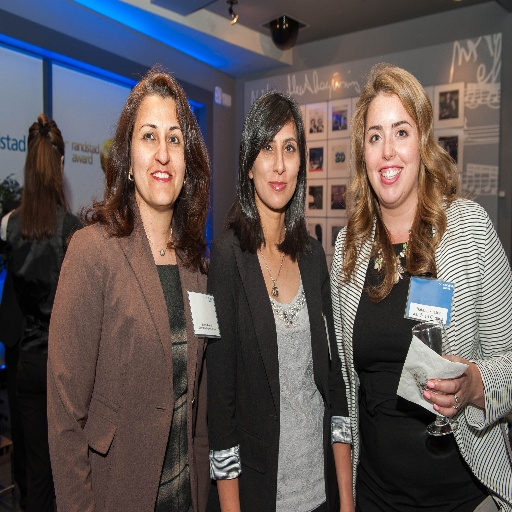hand: (418, 348, 492, 440)
